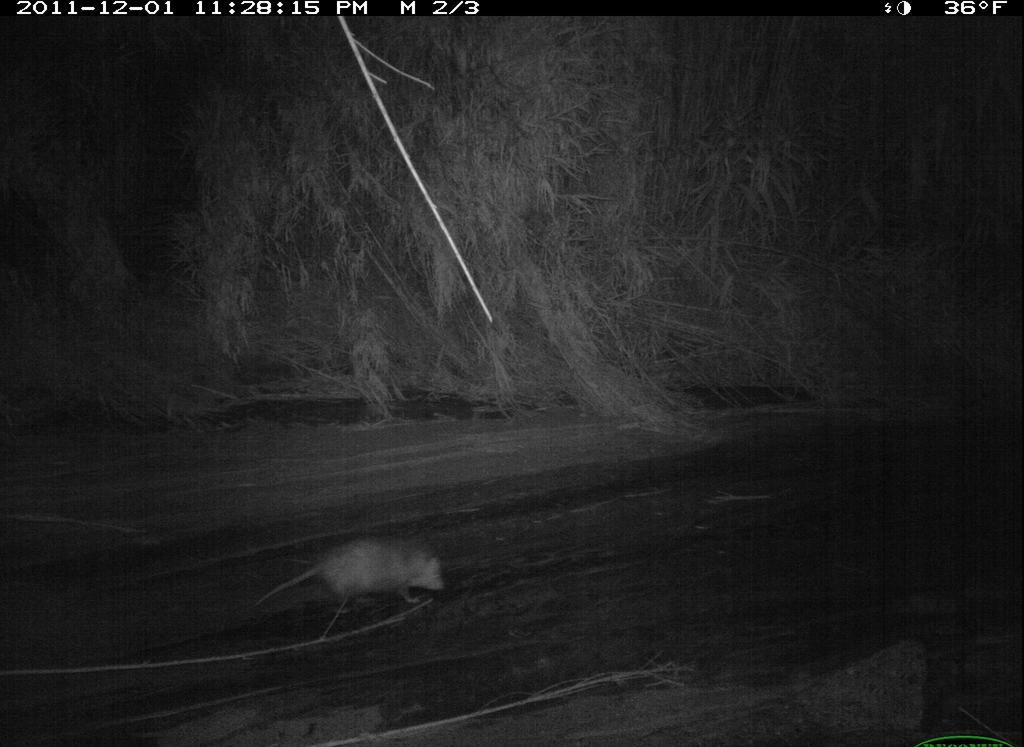opossum: (241, 528, 455, 619)
